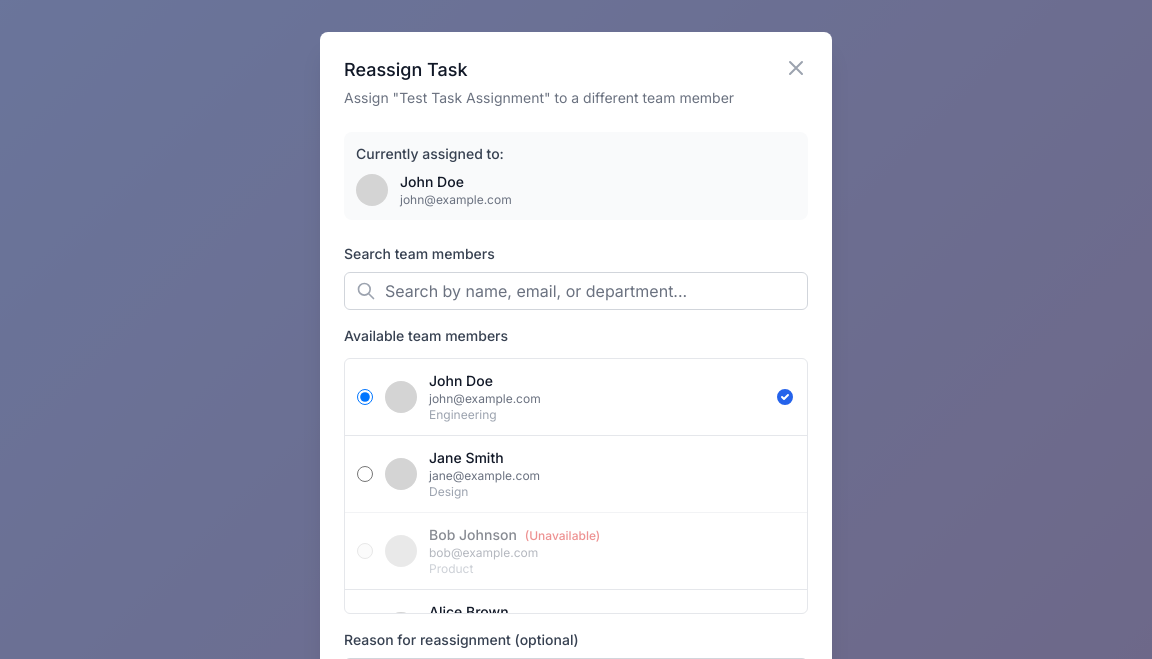
Test case: TaskAssignment › filters users based on search input
The image size is (1152, 659).
Type "Jane" into the field with placeholder "Search by name, email, or department..." at (576, 291), box x1=344 y1=272 x2=808 y2=310
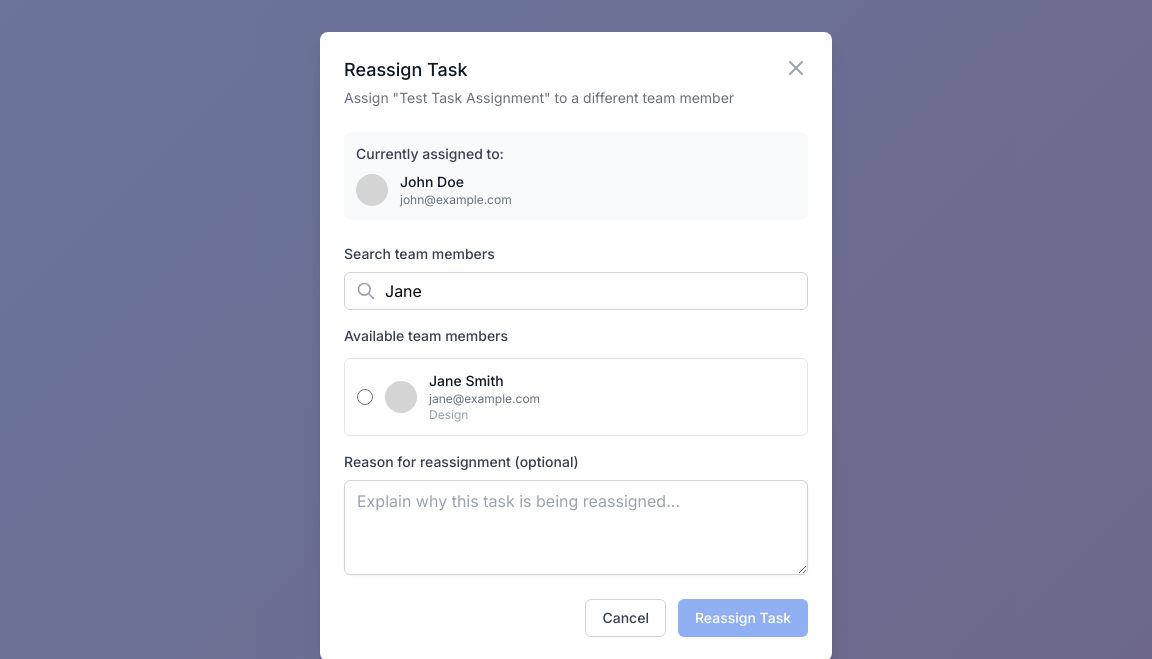
Expected: the text "Jane Smith" is shown, x1=429 y1=372 x2=504 y2=389
Now the text "Alice Brown" is gone
